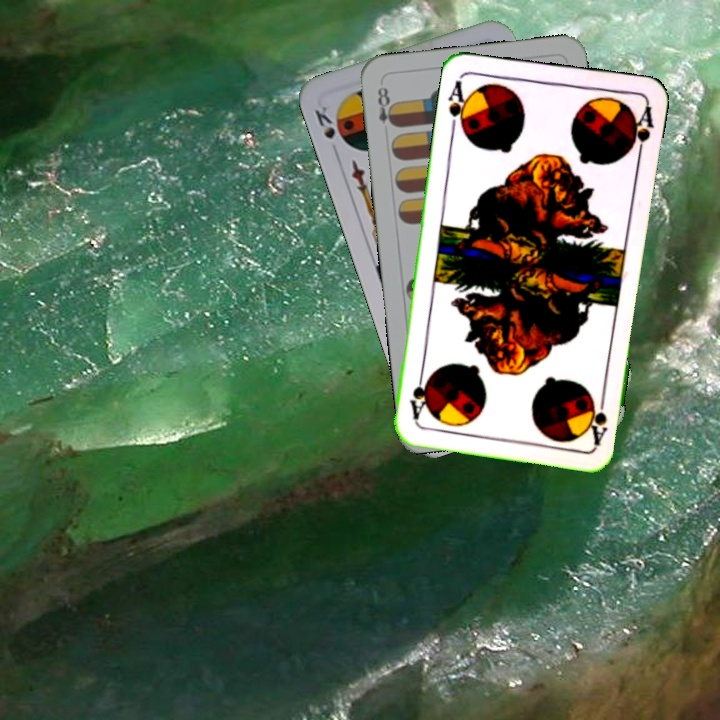E8: (373, 82, 399, 130)
SA: (445, 74, 473, 134), (583, 388, 610, 447)
SK: (310, 101, 338, 142)
